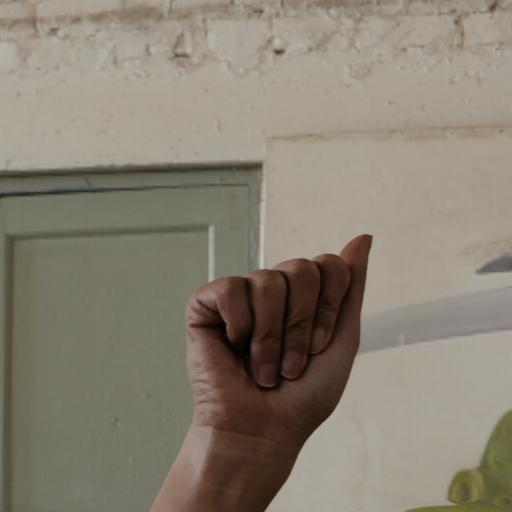A: (168, 230, 395, 441)
